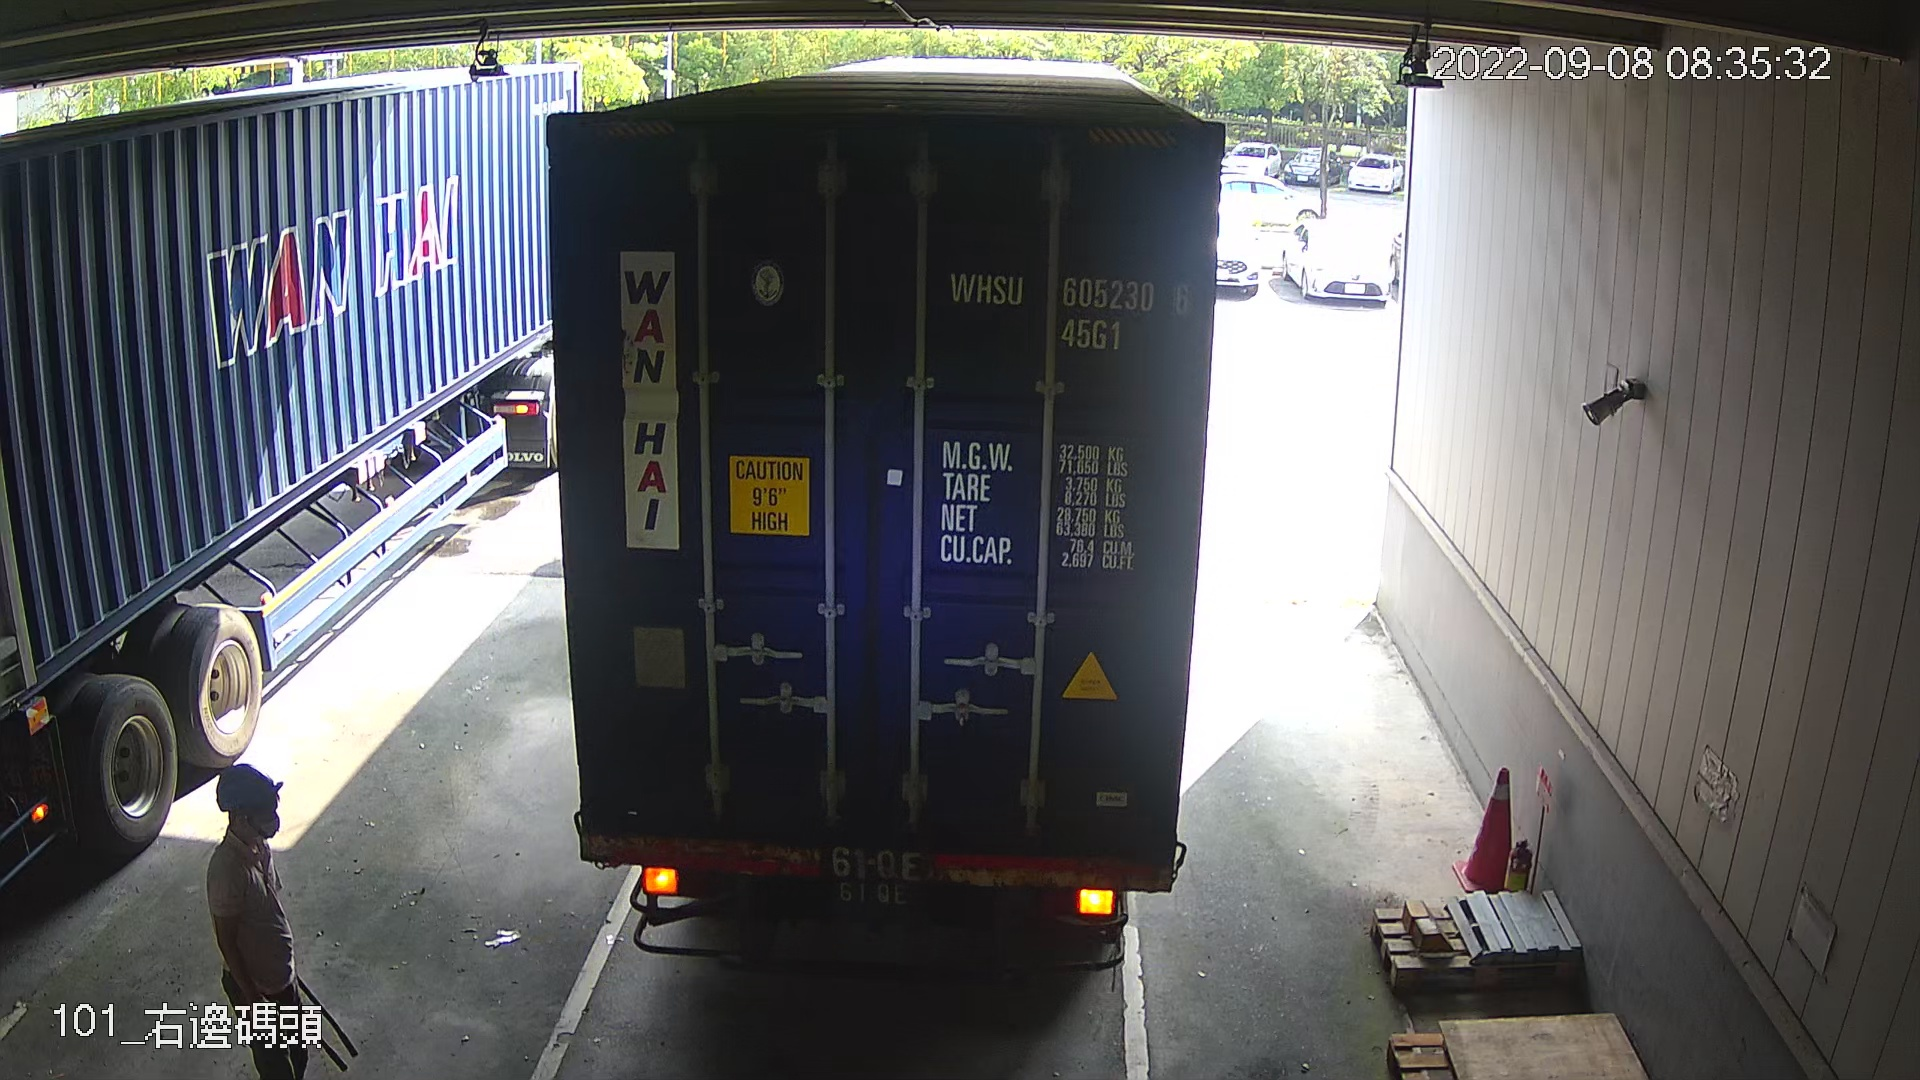container: (938, 260, 1195, 357)
